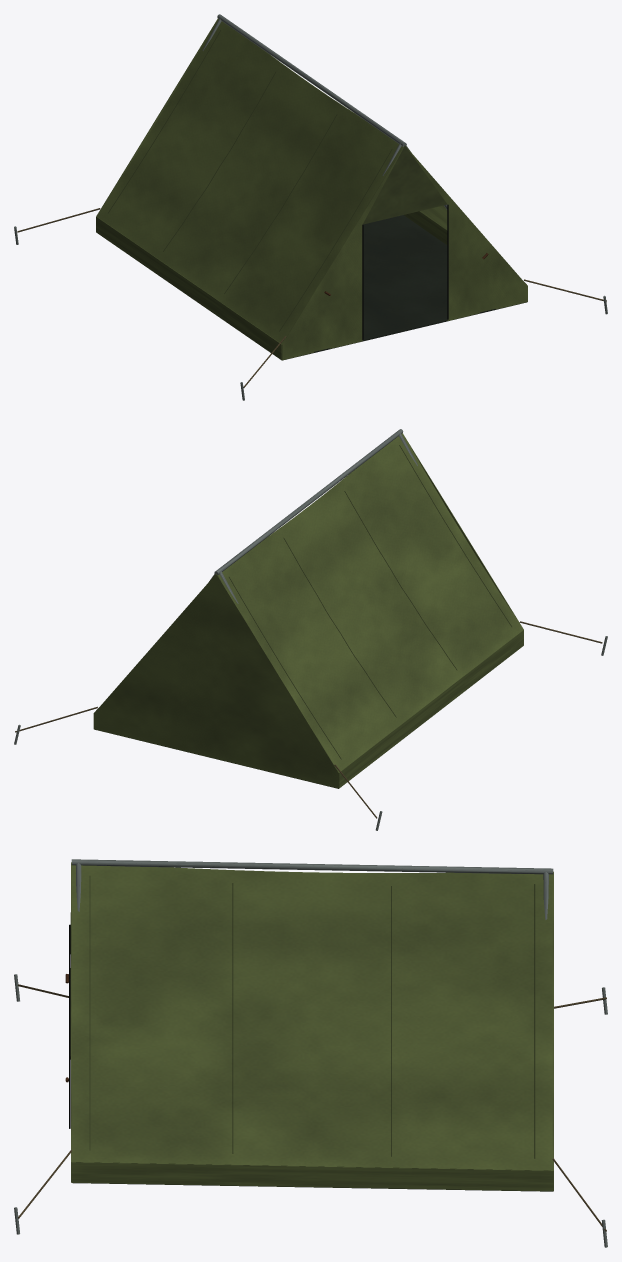
File: level_camp_tent_fitted_pitch_01.glb
The picture shows the model from 3 angles, top to bottom: view 1: azimuth 30°, elevation 25°; view 2: azimuth 150°, elevation 25°; view 3: azimuth 270°, elevation 25°; orthographic projection. The views are drawn at different scales.
Parts seen in each view (by area): view 1: level_camp_tent_fitted_pitch_01; view 2: level_camp_tent_fitted_pitch_01; view 3: level_camp_tent_fitted_pitch_01.
Part boxes in pixels (x1,y1,x2,y2): level_camp_tent_fitted_pitch_01: (14, 14, 607, 400); level_camp_tent_fitted_pitch_01: (14, 429, 607, 830); level_camp_tent_fitted_pitch_01: (14, 859, 607, 1247).
Size of the model in its own units: 3.9 by 2.12 by 4.19.
8 materials, 8 textured.
